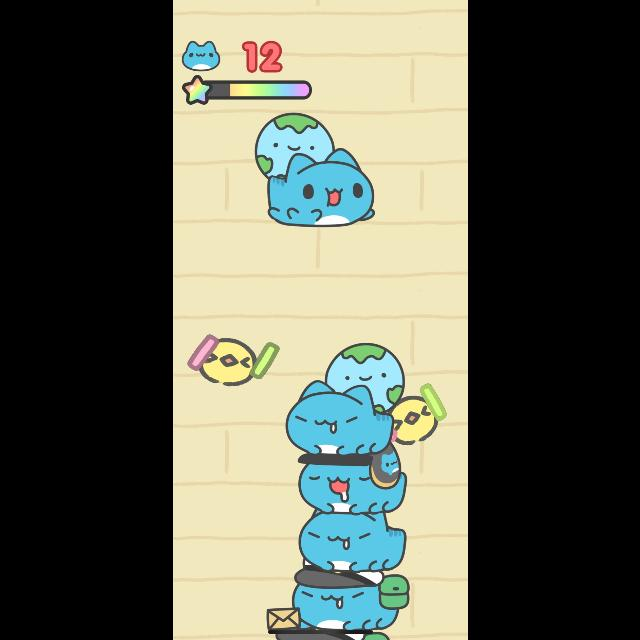capoo: (256, 113, 378, 229), (276, 340, 394, 454), (289, 560, 409, 630), (296, 501, 408, 573), (293, 451, 405, 515)
